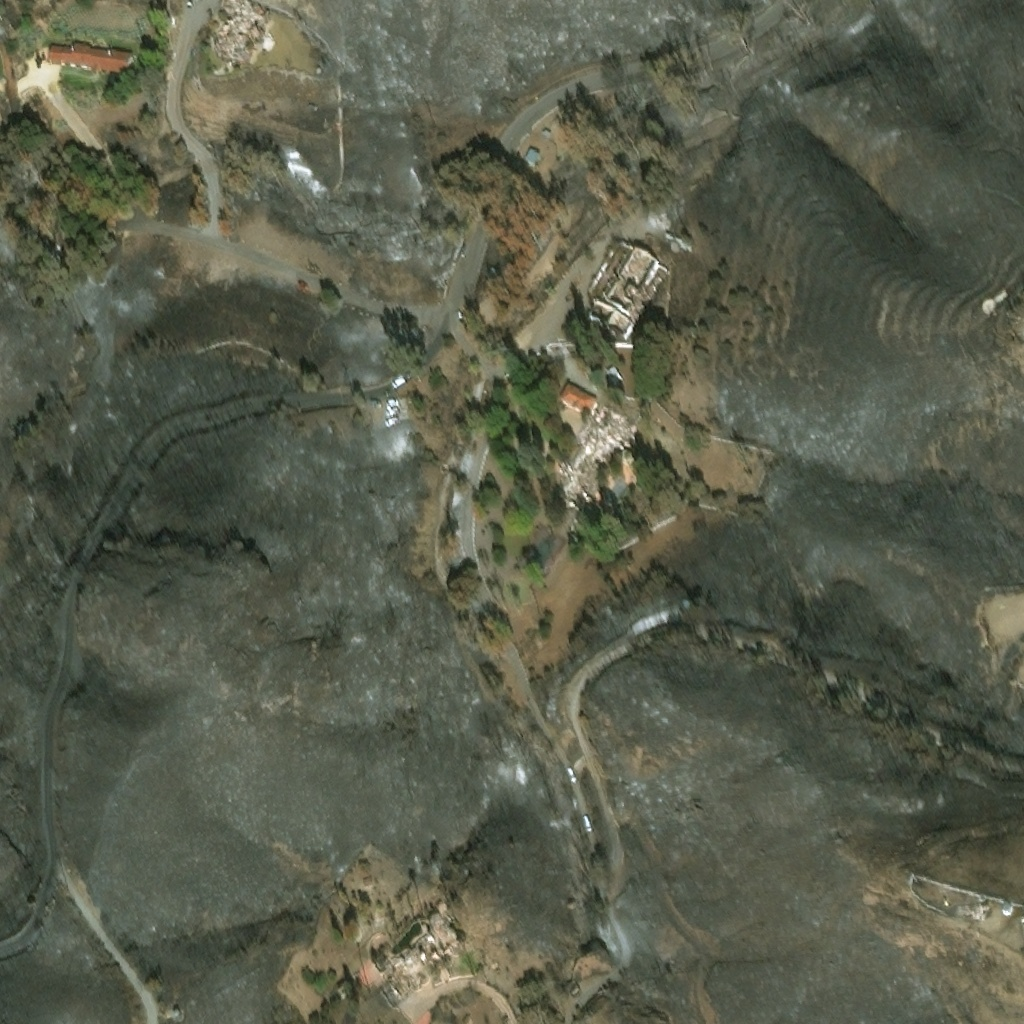0 no-damage: (49, 41, 131, 73), (557, 381, 599, 416), (410, 1006, 431, 1023), (523, 146, 541, 164), (540, 127, 552, 138)
3 destroyed: (555, 398, 633, 517), (587, 241, 667, 336), (387, 914, 463, 994), (213, 0, 268, 56), (958, 900, 988, 918), (380, 982, 398, 1001), (1000, 899, 1012, 911), (170, 1006, 182, 1018)
